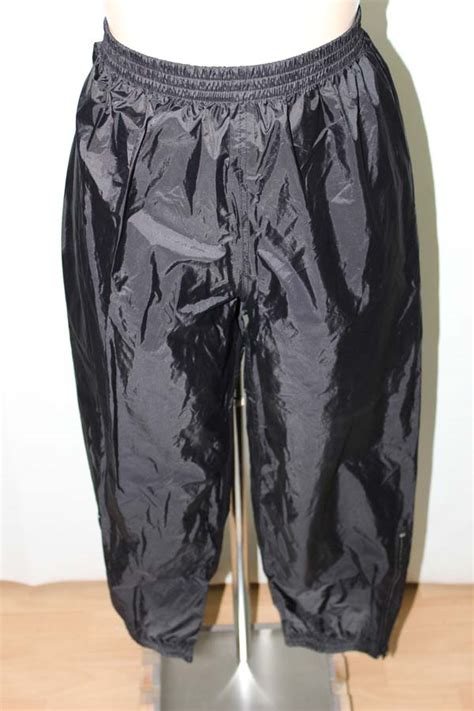nylon: (62, 5, 425, 660)
